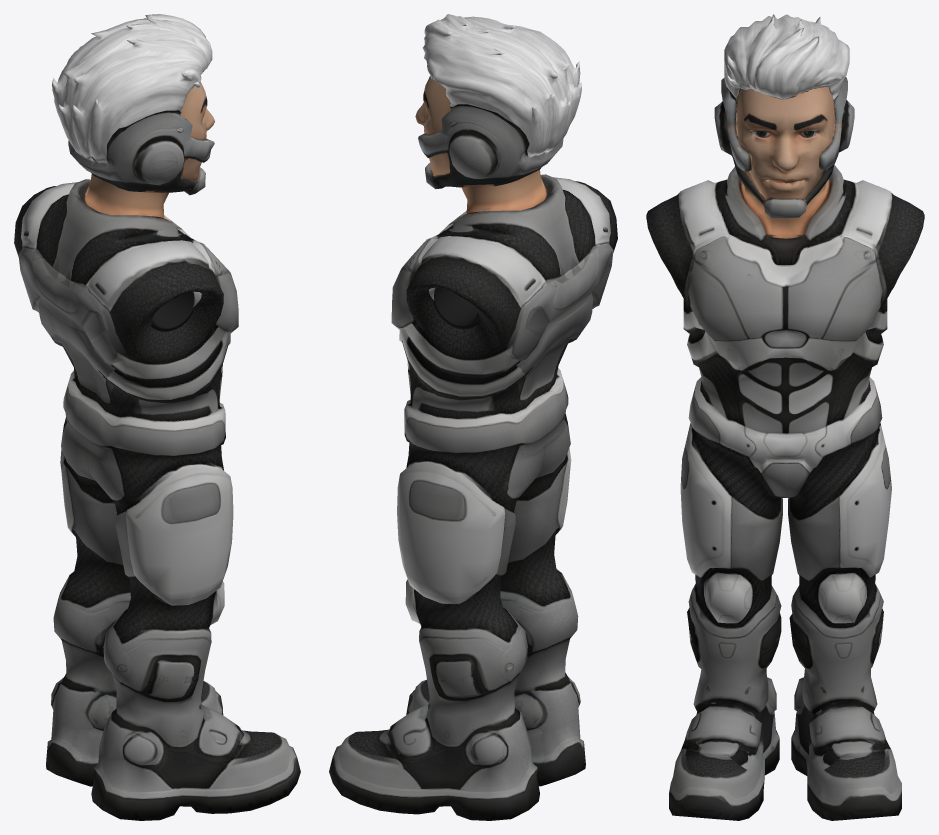
The model's file is fuzeball_manRichie.glb.
The picture shows the model from 3 angles, left to right: view 1: azimuth 30°, elevation 25°; view 2: azimuth 150°, elevation 25°; view 3: azimuth 270°, elevation 25°; orthographic projection.
Visible parts, largest first — view 1: tripo_node_725bb8df-6043-4b7f-86bb-002391b871b6; view 2: tripo_node_725bb8df-6043-4b7f-86bb-002391b871b6; view 3: tripo_node_725bb8df-6043-4b7f-86bb-002391b871b6.
Part boxes in pixels (left/top/right/bottom): tripo_node_725bb8df-6043-4b7f-86bb-002391b871b6: left=14, top=14, right=300, bottom=820; tripo_node_725bb8df-6043-4b7f-86bb-002391b871b6: left=329, top=14, right=617, bottom=820; tripo_node_725bb8df-6043-4b7f-86bb-002391b871b6: left=646, top=14, right=924, bottom=820.
Size of the model in its own units: 3.58 by 12.63 by 4.23.
5 materials, 3 textured.
